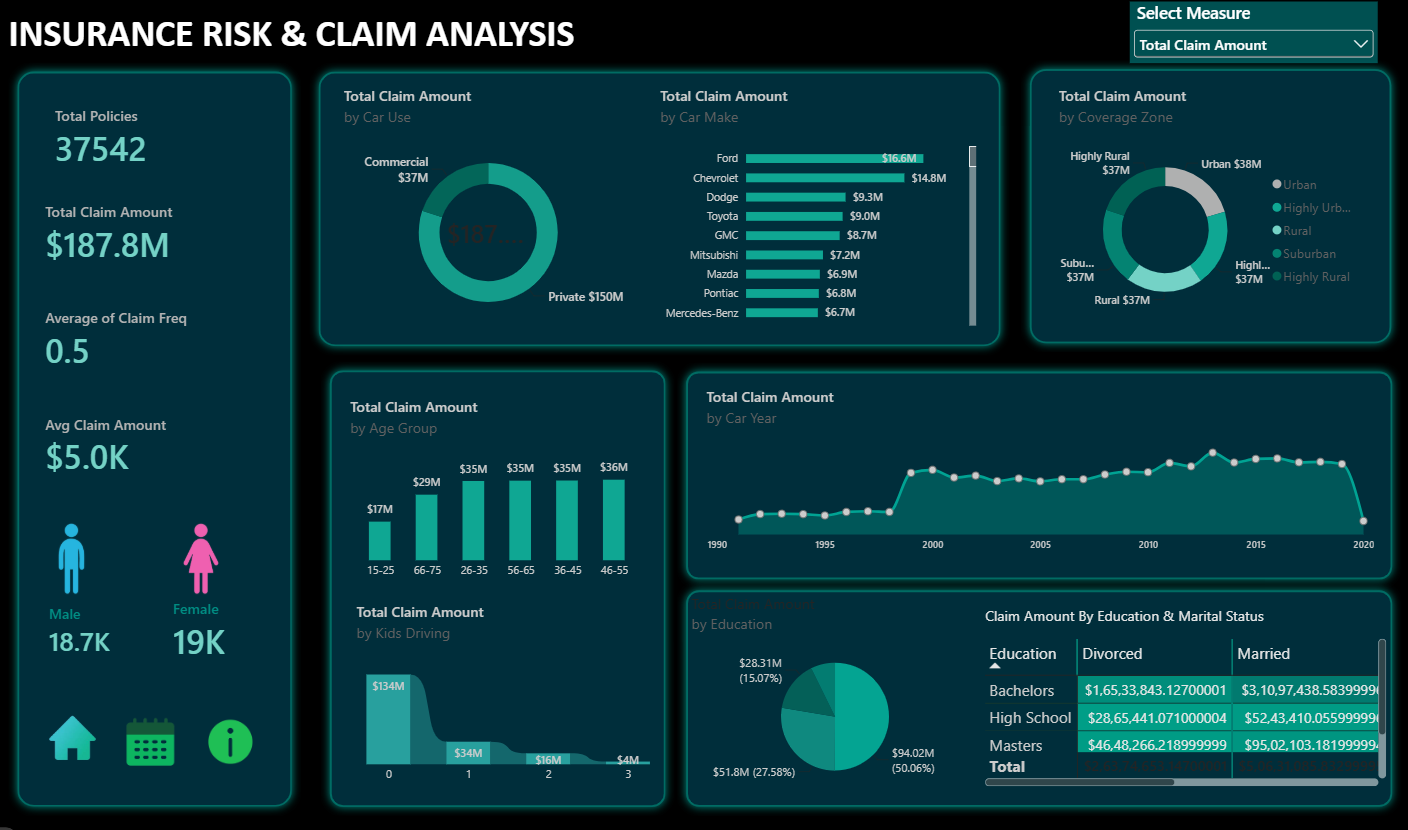

The dashboard page shown, as its layout file describes it:
{"tool":"powerbi","page":{"name":"Page 1","canvas":[1600,950],"ordinal":0},"visuals":[{"type":"textbox","box":[13.7,12,703.3,70.3],"z":0},{"type":"shape","box":[14.1,71.9,330,850],"z":1000},{"type":"cardVisual","fields":{"Data":["insurance_data_car.Total Policies","insurance_data_car.Total Claim Amount","Avg(insurance_data_car.Claim Freq)","insurance_data_car.Avg Claim Amount"]},"box":[39.1,95.3,270,460],"z":2000},{"type":"image","box":[173.8,573.8,115,115],"z":3000},{"type":"image","box":[26.9,574.1,115,115],"z":4000},{"type":"cardVisual","fields":{"Data":["insurance_data_car.Male Count","insurance_data_car.Female Count"]},"box":[43.1,658.5,260,110.8],"z":5000},{"type":"slicer","fields":{"Values":["Select Measure.Select Measure"]},"box":[1279.6,2.8,280,69.3],"z":6000},{"type":"shape","box":[354.7,71.9,790,330],"z":7000},{"type":"donutChart","fields":{"Category":["insurance_data_car.Car Use"],"Y":["insurance_data_car.Total Claim Amount"]},"box":[376.6,82.8,357.8,301.6],"z":8000},{"type":"clusteredBarChart","fields":{"Category":["insurance_data_car.Car Make"],"Y":["insurance_data_car.Total Claim Amount"]},"box":[734.4,82.8,389.1,301.6],"z":9000},{"type":"shape","box":[1157.8,68.8,428.1,329.7],"z":10000},{"type":"donutChart","fields":{"Category":["insurance_data_car.Coverage Zone"],"Y":["insurance_data_car.Total Claim Amount"]},"box":[1184.4,82.8,375,295],"z":11000},{"type":"shape","box":[367.2,409.4,399,513],"z":12000},{"type":"clusteredColumnChart","fields":{"Category":["insurance_data_car.Age Group"],"Y":["insurance_data_car.Total Claim Amount"]},"box":[384.4,434.4,365,240],"z":13000},{"type":"shape","box":[769.2,410,817.3,254.5],"z":14000},{"type":"ribbonChart","fields":{"Category":["insurance_data_car.Kids Driving"],"Y":["insurance_data_car.Total Claim Amount"]},"box":[391.7,666,374.7,239],"z":15000},{"type":"areaChart","fields":{"Category":["insurance_data_car.Car Year"],"Y":["insurance_data_car.Total Claim Amount"]},"box":[785.9,423.4,785.9,220.3],"z":16000},{"type":"shape","box":[769.2,657.5,817.3,264.4],"z":17000},{"type":"pieChart","fields":{"Category":["insurance_data_car.Education"],"Y":["insurance_data_car.Total Claim Amount"]},"box":[769.2,656.1,356.3,248.9],"z":18000},{"type":"pivotTable","title":"Claim Amount By Education & Marital Status","fields":{"Columns":["insurance_data_car.Marital Status"],"Rows":["insurance_data_car.Education"],"Values":["insurance_data_car.Total Claim Amount"]},"box":[1101.5,670.2,485,234.7],"z":19000},{"type":"image","box":[231.9,808.8,67,60],"z":20000},{"type":"image","box":[42.4,791.8,87.7,91.9],"z":21000},{"type":"image","box":[141.4,808.8,67,60],"z":22000}]}

Visuals, with their boxes in screenshot pixels (x1, y1, x2, y2), scaled from the page's 1600x950 canvas onto the 1408x830 screenshot:
textbox: crop(12, 10, 631, 72)
shape: crop(12, 63, 303, 805)
cardVisual - insurance_data_car.Total Policies x insurance_data_car.Total Claim Amount: crop(34, 83, 272, 485)
image: crop(153, 501, 254, 602)
image: crop(24, 502, 125, 602)
cardVisual - insurance_data_car.Male Count x insurance_data_car.Female Count: crop(38, 575, 267, 672)
slicer - Select Measure.Select Measure: crop(1126, 2, 1372, 63)
shape: crop(312, 63, 1007, 351)
donutChart - insurance_data_car.Car Use x insurance_data_car.Total Claim Amount: crop(331, 72, 646, 336)
clusteredBarChart - insurance_data_car.Car Make x insurance_data_car.Total Claim Amount: crop(646, 72, 989, 336)
shape: crop(1019, 60, 1396, 348)
donutChart - insurance_data_car.Coverage Zone x insurance_data_car.Total Claim Amount: crop(1042, 72, 1372, 330)
shape: crop(323, 358, 674, 806)
clusteredColumnChart - insurance_data_car.Age Group x insurance_data_car.Total Claim Amount: crop(338, 380, 659, 589)
shape: crop(677, 358, 1396, 581)
ribbonChart - insurance_data_car.Kids Driving x insurance_data_car.Total Claim Amount: crop(345, 582, 674, 791)
areaChart - insurance_data_car.Car Year x insurance_data_car.Total Claim Amount: crop(692, 370, 1383, 562)
shape: crop(677, 574, 1396, 805)
pieChart - insurance_data_car.Education x insurance_data_car.Total Claim Amount: crop(677, 573, 990, 791)
"Claim Amount By Education & Marital Status" pivotTable: crop(969, 586, 1396, 791)
image: crop(204, 707, 263, 759)
image: crop(37, 692, 114, 772)
image: crop(124, 707, 183, 759)
